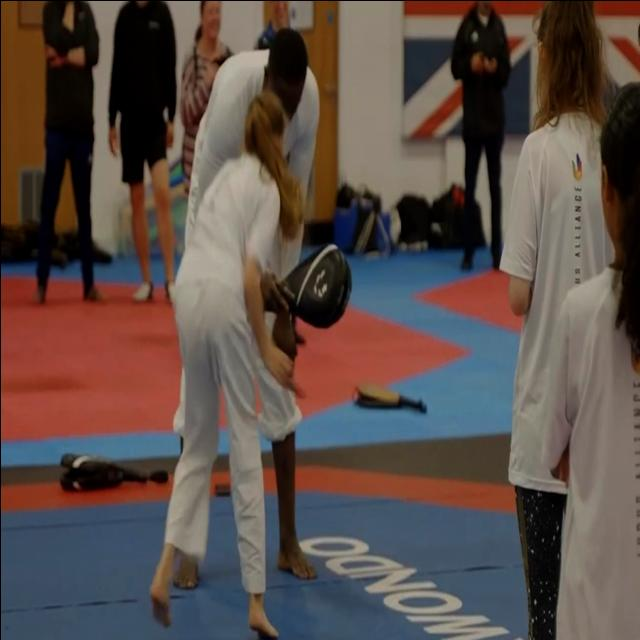paddle: (278, 240, 352, 329), (58, 449, 148, 494)
